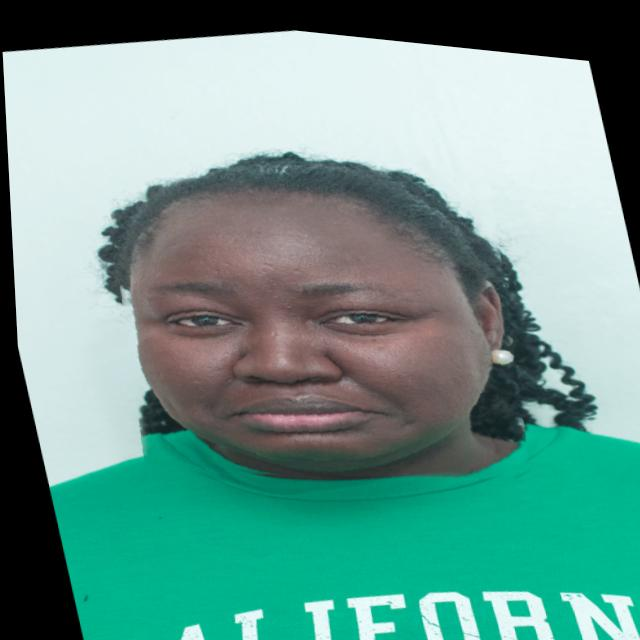sad: (82, 115, 546, 526)
